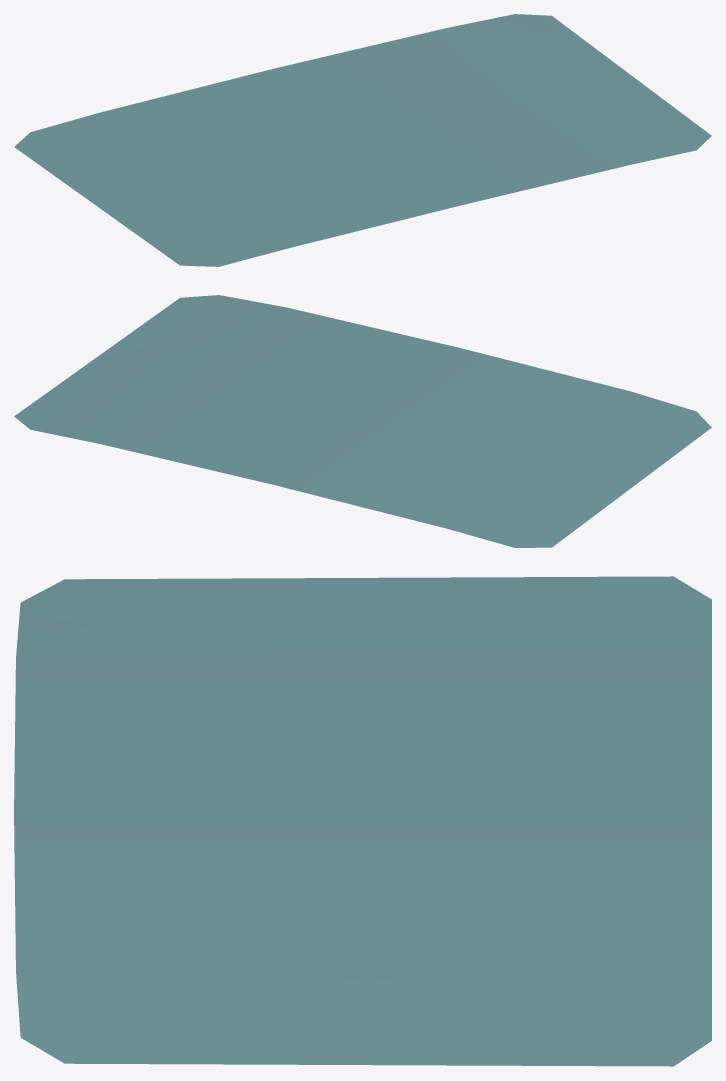
File: Offroad_1_Window_Tessellate_T.fbx
The picture shows the model from 3 angles, top to bottom: view 1: azimuth 30°, elevation 25°; view 2: azimuth 150°, elevation 25°; view 3: azimuth 270°, elevation 25°; orthographic projection. The views are drawn at different scales.
Visible parts, largest first — view 1: Offroad_1_Window_Tessellate_T; view 2: Offroad_1_Window_Tessellate_T; view 3: Offroad_1_Window_Tessellate_T.
Boxes of the visible parts, x1,y1,x2,y2 form: Offroad_1_Window_Tessellate_T: [14, 14, 711, 266]; Offroad_1_Window_Tessellate_T: [14, 295, 711, 547]; Offroad_1_Window_Tessellate_T: [14, 576, 711, 1066].
Bounding box in the file's own units: 96.55 × 0.8407 × 58.12.
